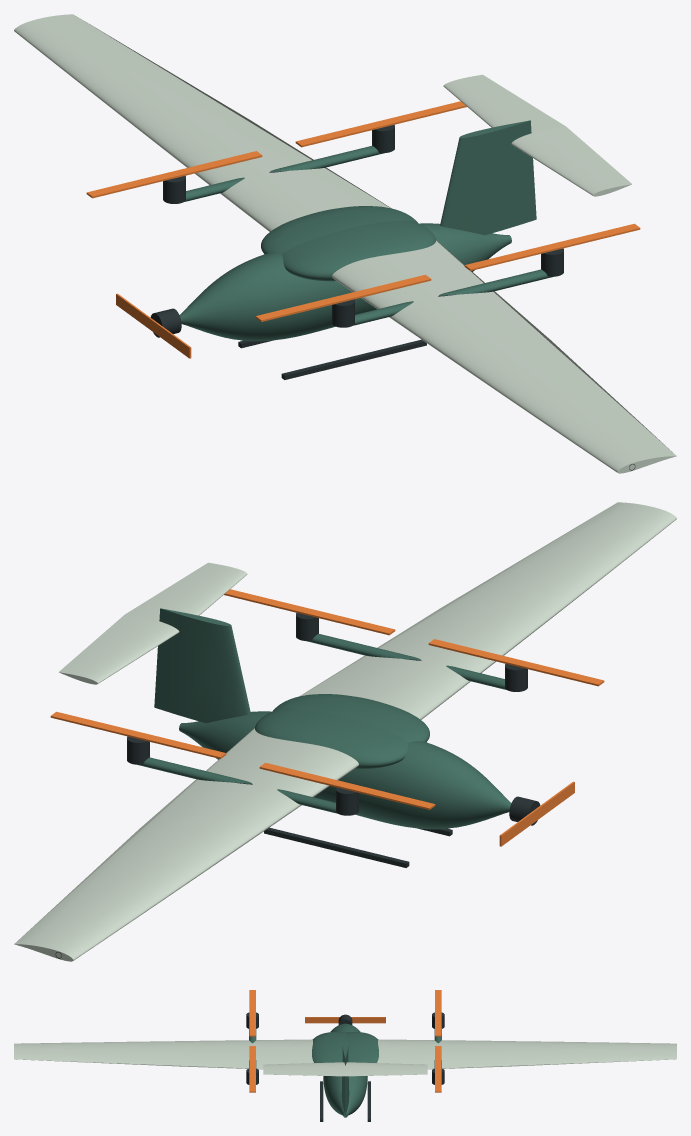
File: surface_tools-04-model.glb
3 renders of one model, top to bottom at view 1: azimuth 30°, elevation 25°; view 2: azimuth 150°, elevation 25°; view 3: azimuth 270°, elevation 25°, orthographic. The views are drawn at different scales.
Parts seen in each view (by area): view 1: wing-1, wing1, fuselage, fin, root_fairing-1, tail-1, root_fairing1, tail1, boom_fairing-1, boom_fairing1, prop_-1_200.0, prop_-1_700.0 (+4 smaller); view 2: wing1, wing-1, fuselage, fin, root_fairing1, tail1, root_fairing-1, tail-1, boom_fairing1, boom_fairing-1, prop_1_200.0, prop_-1_200.0 (+4 smaller); view 3: wing-1, wing1, fuselage, tail-1, tail1, root_fairing-1, root_fairing1, cruise_prop, fin, prop_-1_200.0, prop_-1_700.0, prop_1_200.0 (+1 smaller).
Boxes of the visible parts, x1,y1,x2,y2 form: wing-1: [332, 240, 676, 473]; wing1: [14, 14, 391, 231]; fuselage: [179, 223, 511, 341]; fin: [440, 120, 536, 235]; root_fairing-1: [282, 220, 435, 281]; tail-1: [511, 126, 631, 196]; root_fairing1: [261, 206, 417, 254]; tail1: [443, 74, 565, 132]; boom_fairing-1: [353, 269, 553, 325]; boom_fairing1: [184, 145, 384, 201]; prop_-1_200.0: [255, 274, 431, 321]; prop_-1_700.0: [464, 223, 640, 270]; wing1: [14, 728, 358, 961]; wing-1: [299, 502, 676, 719]; fuselage: [179, 711, 511, 829]; fin: [154, 608, 250, 723]; root_fairing1: [255, 708, 408, 769]; tail1: [59, 614, 179, 684]; root_fairing-1: [273, 694, 429, 742]; tail-1: [125, 562, 247, 620]; boom_fairing1: [137, 757, 337, 813]; boom_fairing-1: [306, 633, 506, 689]; prop_1_200.0: [259, 762, 435, 809]; prop_-1_200.0: [428, 639, 604, 686]; wing-1: [14, 1039, 313, 1069]; wing1: [377, 1039, 676, 1069]; fuselage: [323, 1023, 367, 1117]; tail-1: [263, 1062, 345, 1076]; tail1: [345, 1062, 427, 1076]; root_fairing-1: [312, 1032, 345, 1062]; root_fairing1: [345, 1032, 378, 1062]; cruise_prop: [305, 1017, 385, 1023]; fin: [341, 1039, 349, 1115]; prop_-1_200.0: [249, 990, 255, 1036]; prop_-1_700.0: [249, 1046, 255, 1092]; prop_1_200.0: [435, 990, 441, 1036].
Size of the model in its own units: 989 by 405 by 2500.
